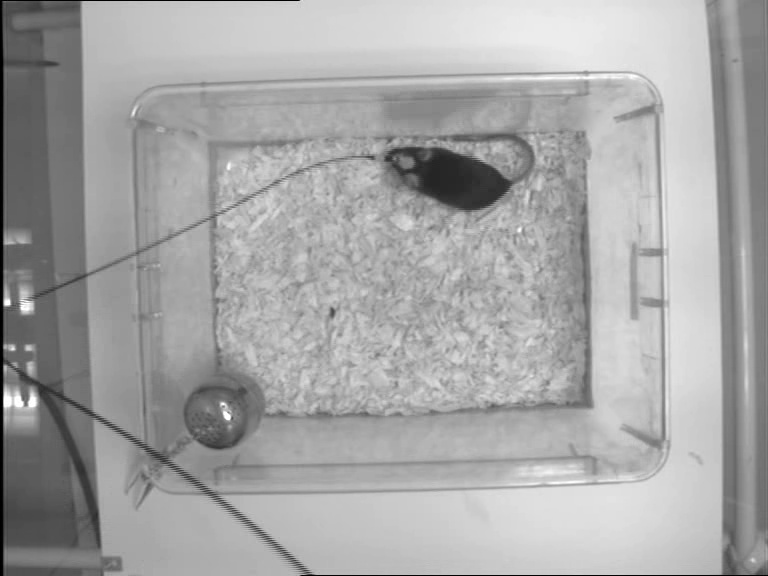mice: (383, 131, 537, 214)
